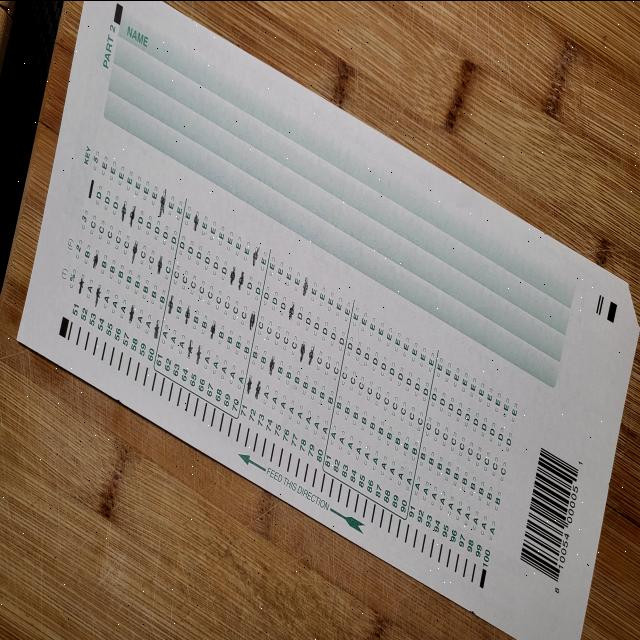scantron_back: (14, 0, 640, 640)
